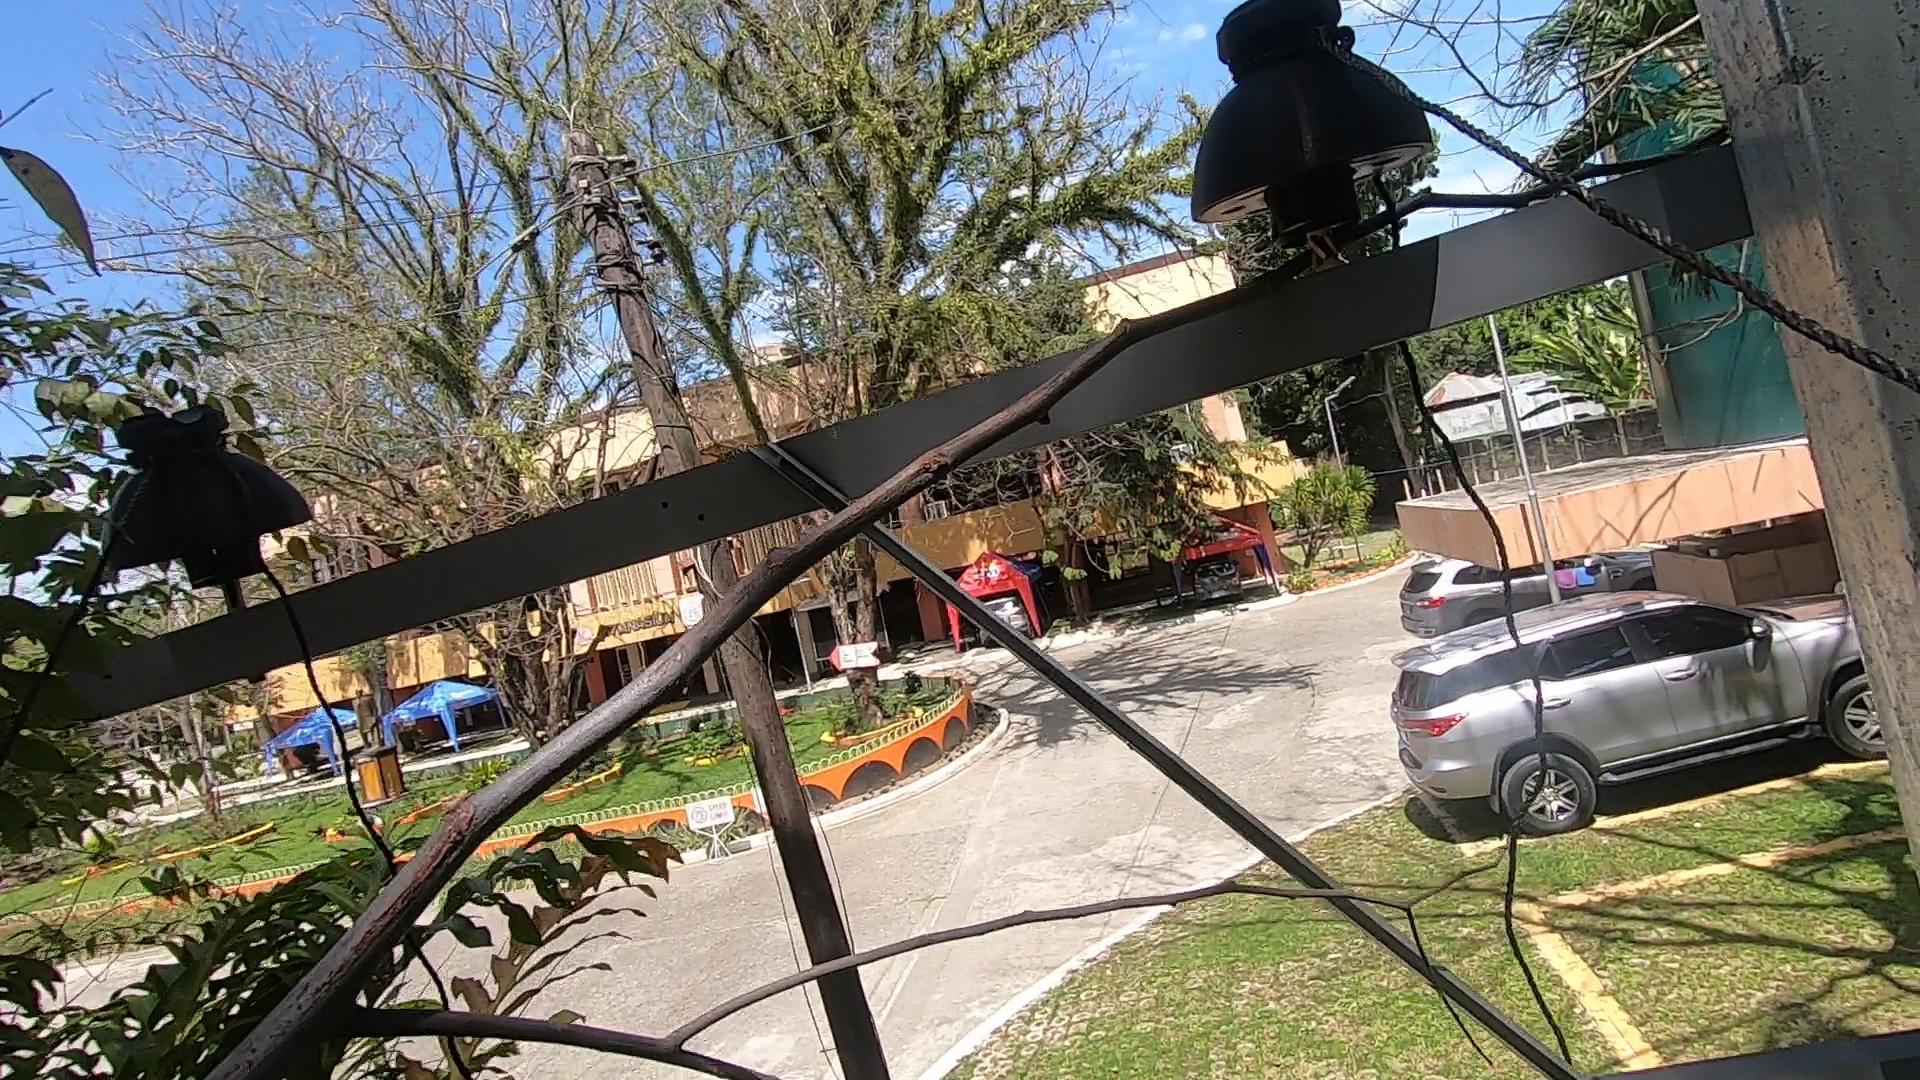tree branch: (158, 76, 1720, 1062)
